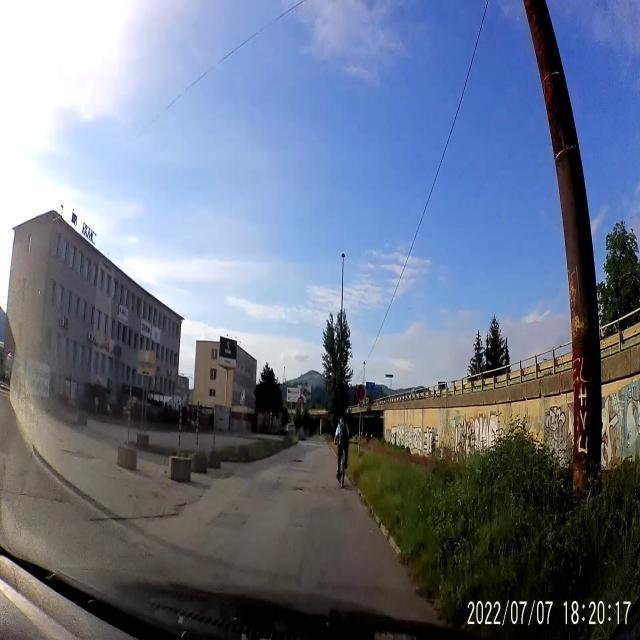Pothole: (292, 482, 304, 492), (292, 457, 302, 463)
